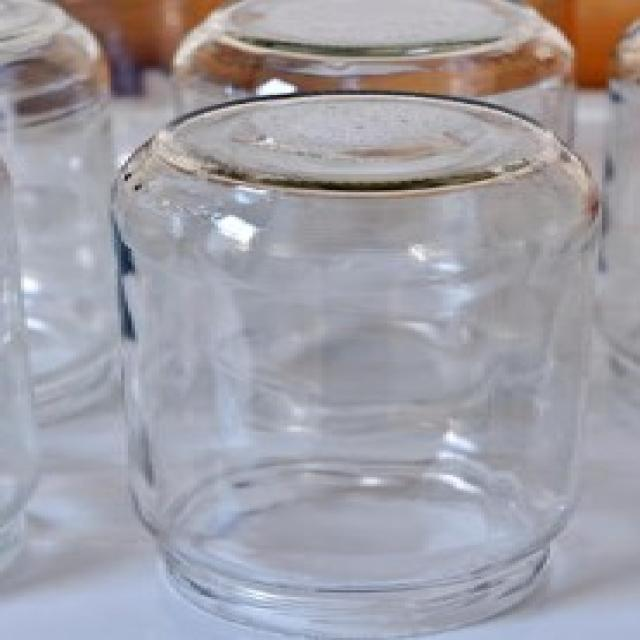electronic: (111, 94, 611, 640)
